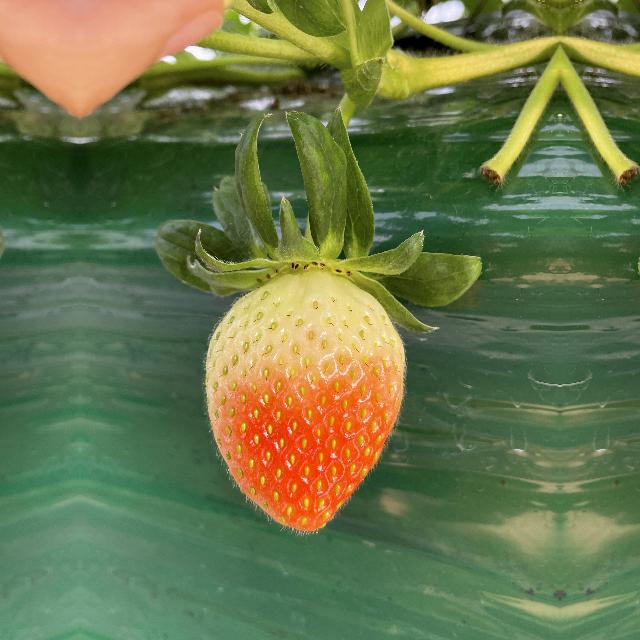Health_75: (198, 260, 410, 540)
